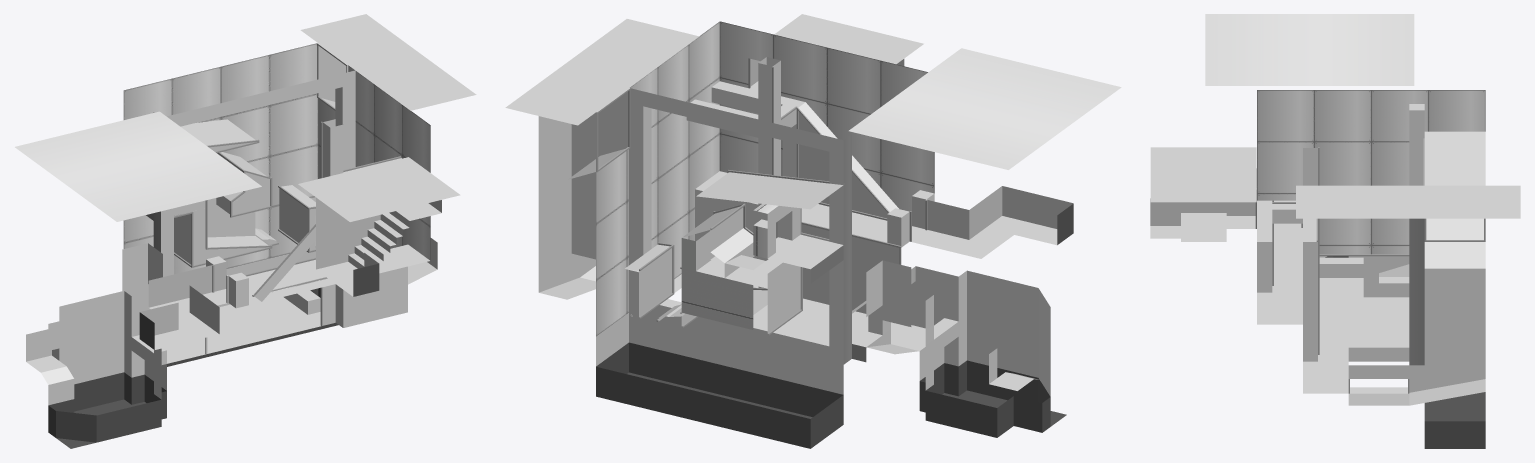
File: Area7.gltf
3 renders of one model, left to right at view 1: azimuth 30°, elevation 25°; view 2: azimuth 150°, elevation 25°; view 3: azimuth 270°, elevation 25°, orthographic. The views are drawn at different scales.
Parts seen in each view (by area): view 1: Grid.001; view 2: Grid.001; view 3: Grid.001.
Part boxes in pixels (bbox=[...]): Grid.001: bbox=[15, 14, 476, 448]; Grid.001: bbox=[505, 14, 1121, 448]; Grid.001: bbox=[1150, 14, 1520, 448].
Size of the model in its own units: 62.31 by 38.64 by 48.58.
Materials: 6 (1 with a texture image).
